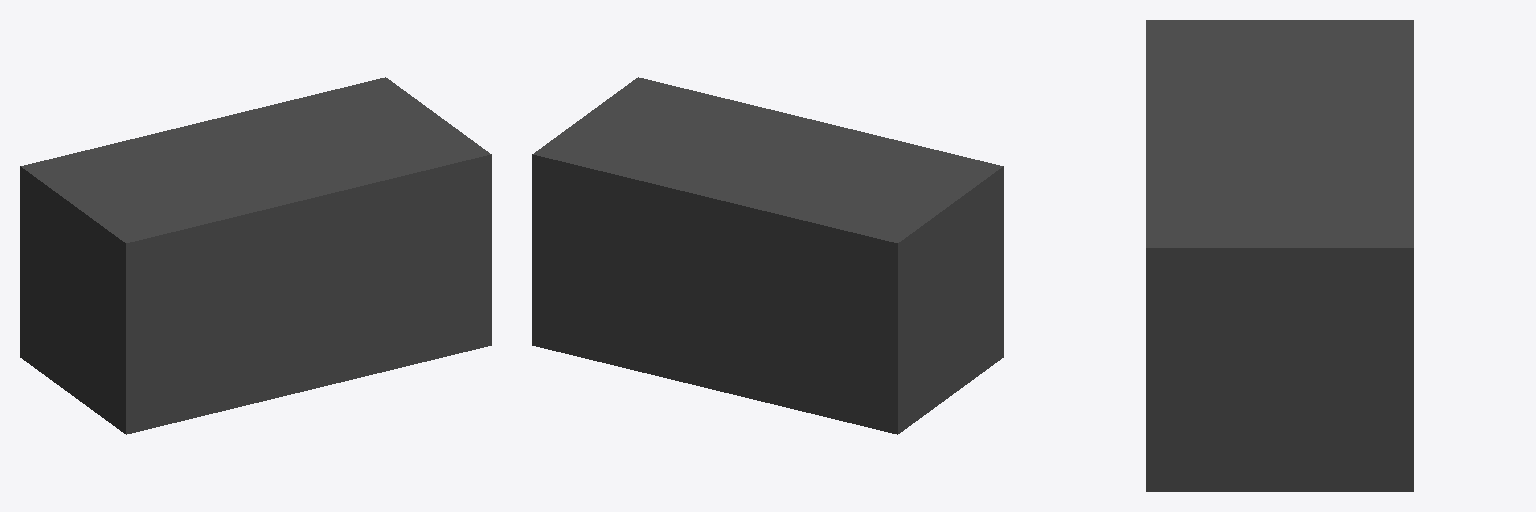
robot.urdf — model.urdf:
<?xml version="0.0" ?>
<robot name="model.urdf">

	<material name="grey">
		<color rgba="0.35 0.35 0.35 1"/>
	</material>

	<link name="baseLink">
		<inertial>
			<mass value="0.208"/>
			<inertia  ixx="0.00026217" ixy="0.00"  ixz="0.00" iyy="0.00026217" iyz="0.00" izz="0.00010487" />
		</inertial>
		<visual>
			<origin xyz="0 0 0" rpy="0 0 0"/>
			<geometry>
				<box size="0.11 0.055 0.055"/>
			</geometry>
			<material name="grey"/>
		</visual>
		<collision>
			<origin xyz="0 0 0" rpy="0 0 0"/>
			<geometry>
				<box size="0.11 0.055 0.055"/>
			</geometry>
		</collision>
	</link>
</robot>

--- What the picture shows (computed from the rendered views, not written in the file) ---
Views: 3 orthographic renders of the robot side by side, from view 1: azimuth 30°, elevation 25°; view 2: azimuth 150°, elevation 25°; view 3: azimuth 270°, elevation 25°.
Robot: model.urdf — 1 links, 0 joints (none); root link baseLink; default pose: every joint at zero.
Visible links, largest first — view 1: baseLink; view 2: baseLink; view 3: baseLink.
Boxes of the visible links, bbox=[...] form: baseLink: bbox=[20, 77, 491, 434]; baseLink: bbox=[532, 77, 1003, 434]; baseLink: bbox=[1146, 20, 1413, 491].
Size in the robot's own frame: 0.11 by 0.055 by 0.055 metres.
Geometry: primitives only (box / cylinder / sphere), no mesh files.